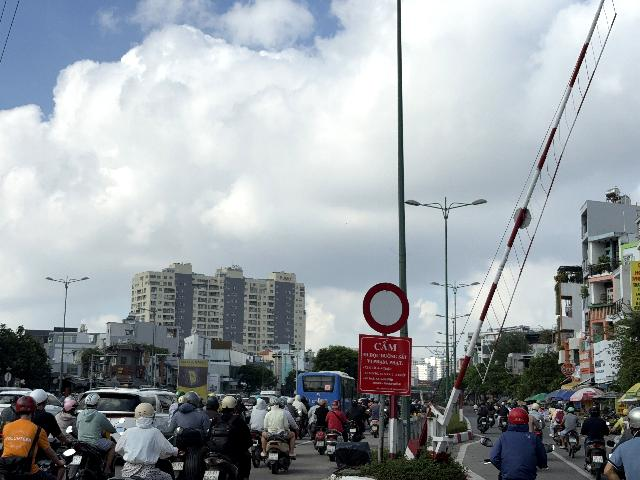duong-cam: (362, 283, 410, 334)
